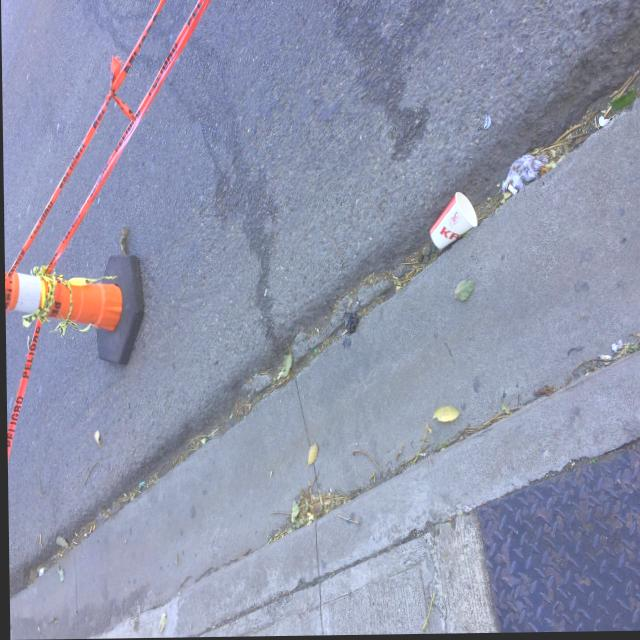Paper: (425, 189, 481, 254), (497, 151, 549, 194)
